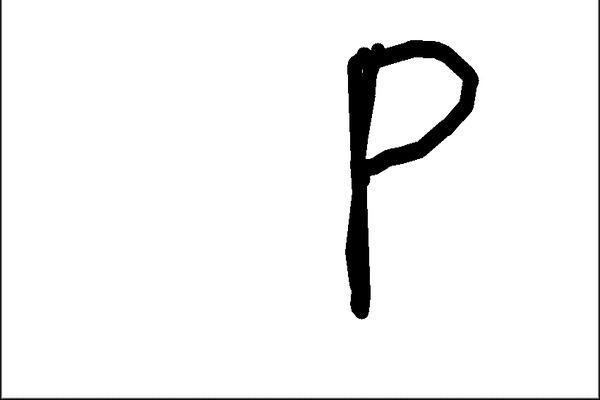P: (330, 36, 484, 332)
